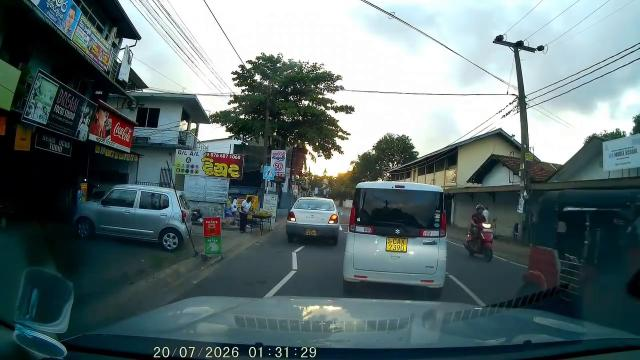number plate: (383, 234, 410, 254)
